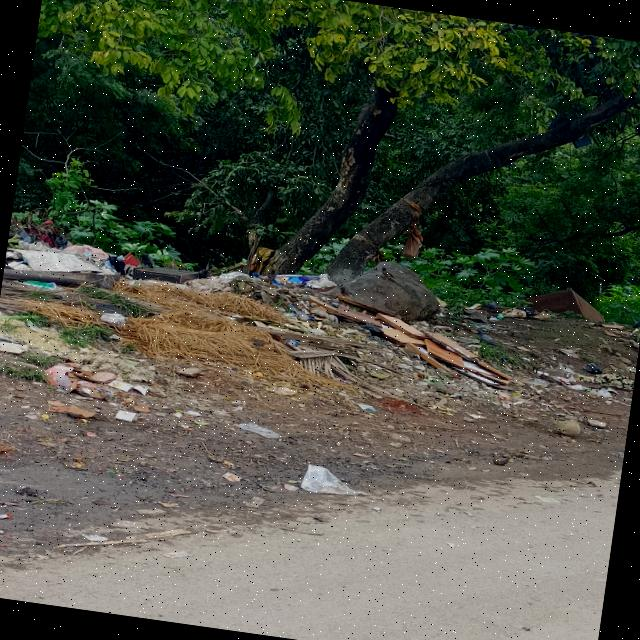garbage: (0, 231, 331, 386), (318, 303, 502, 397)
